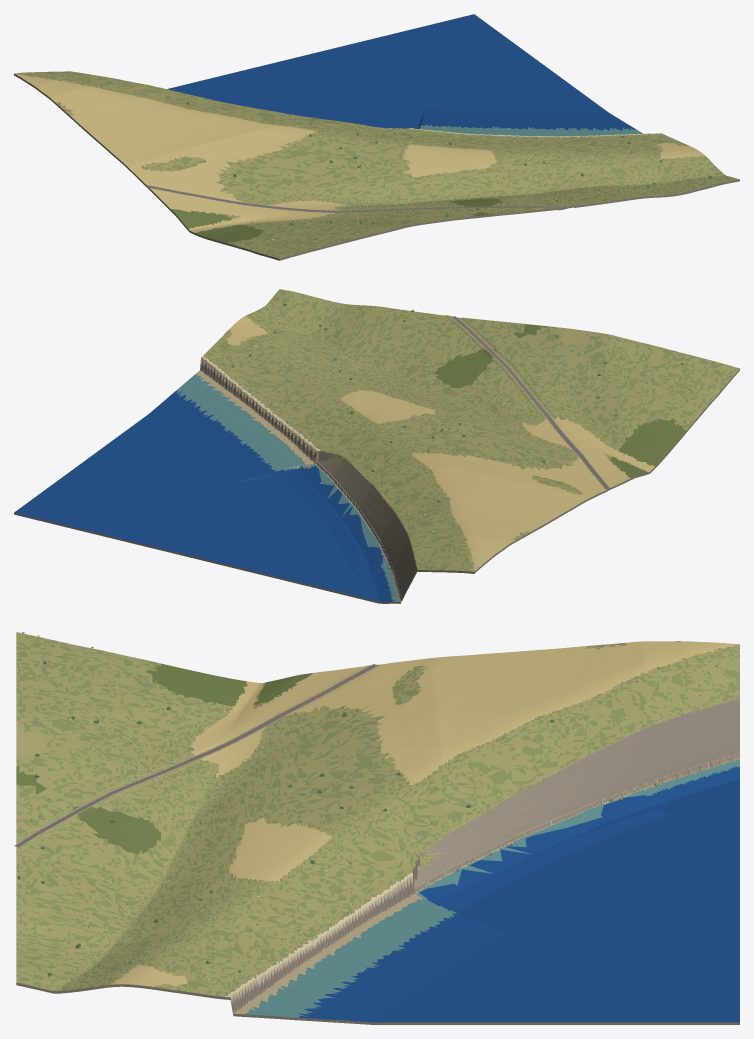
The model's file is parca_+12_-1-yakin.glb.
3 renders of one model, top to bottom at view 1: azimuth 30°, elevation 25°; view 2: azimuth 150°, elevation 25°; view 3: azimuth 270°, elevation 25°, orthographic. The views are drawn at different scales.
Visible parts, largest first — view 1: parca_+12_-1_arazi, parca_+12_-1_yollar, parca_+12_-1_bitkiler; view 2: parca_+12_-1_arazi, parca_+12_-1_yollar, parca_+12_-1_bitkiler; view 3: parca_+12_-1_arazi, parca_+12_-1_yollar, parca_+12_-1_bitkiler.
Boxes of the visible parts, x1,y1,x2,y2 form: parca_+12_-1_arazi: (14, 14, 739, 260); parca_+12_-1_yollar: (147, 185, 565, 212); parca_+12_-1_bitkiler: (51, 73, 717, 257); parca_+12_-1_arazi: (14, 289, 739, 603); parca_+12_-1_yollar: (452, 316, 609, 489); parca_+12_-1_bitkiler: (231, 303, 736, 560); parca_+12_-1_arazi: (16, 632, 739, 1024); parca_+12_-1_yollar: (14, 664, 377, 847); parca_+12_-1_bitkiler: (17, 632, 732, 986).
Bounding box in the file's own units: 1003 × 137 × 1003.
